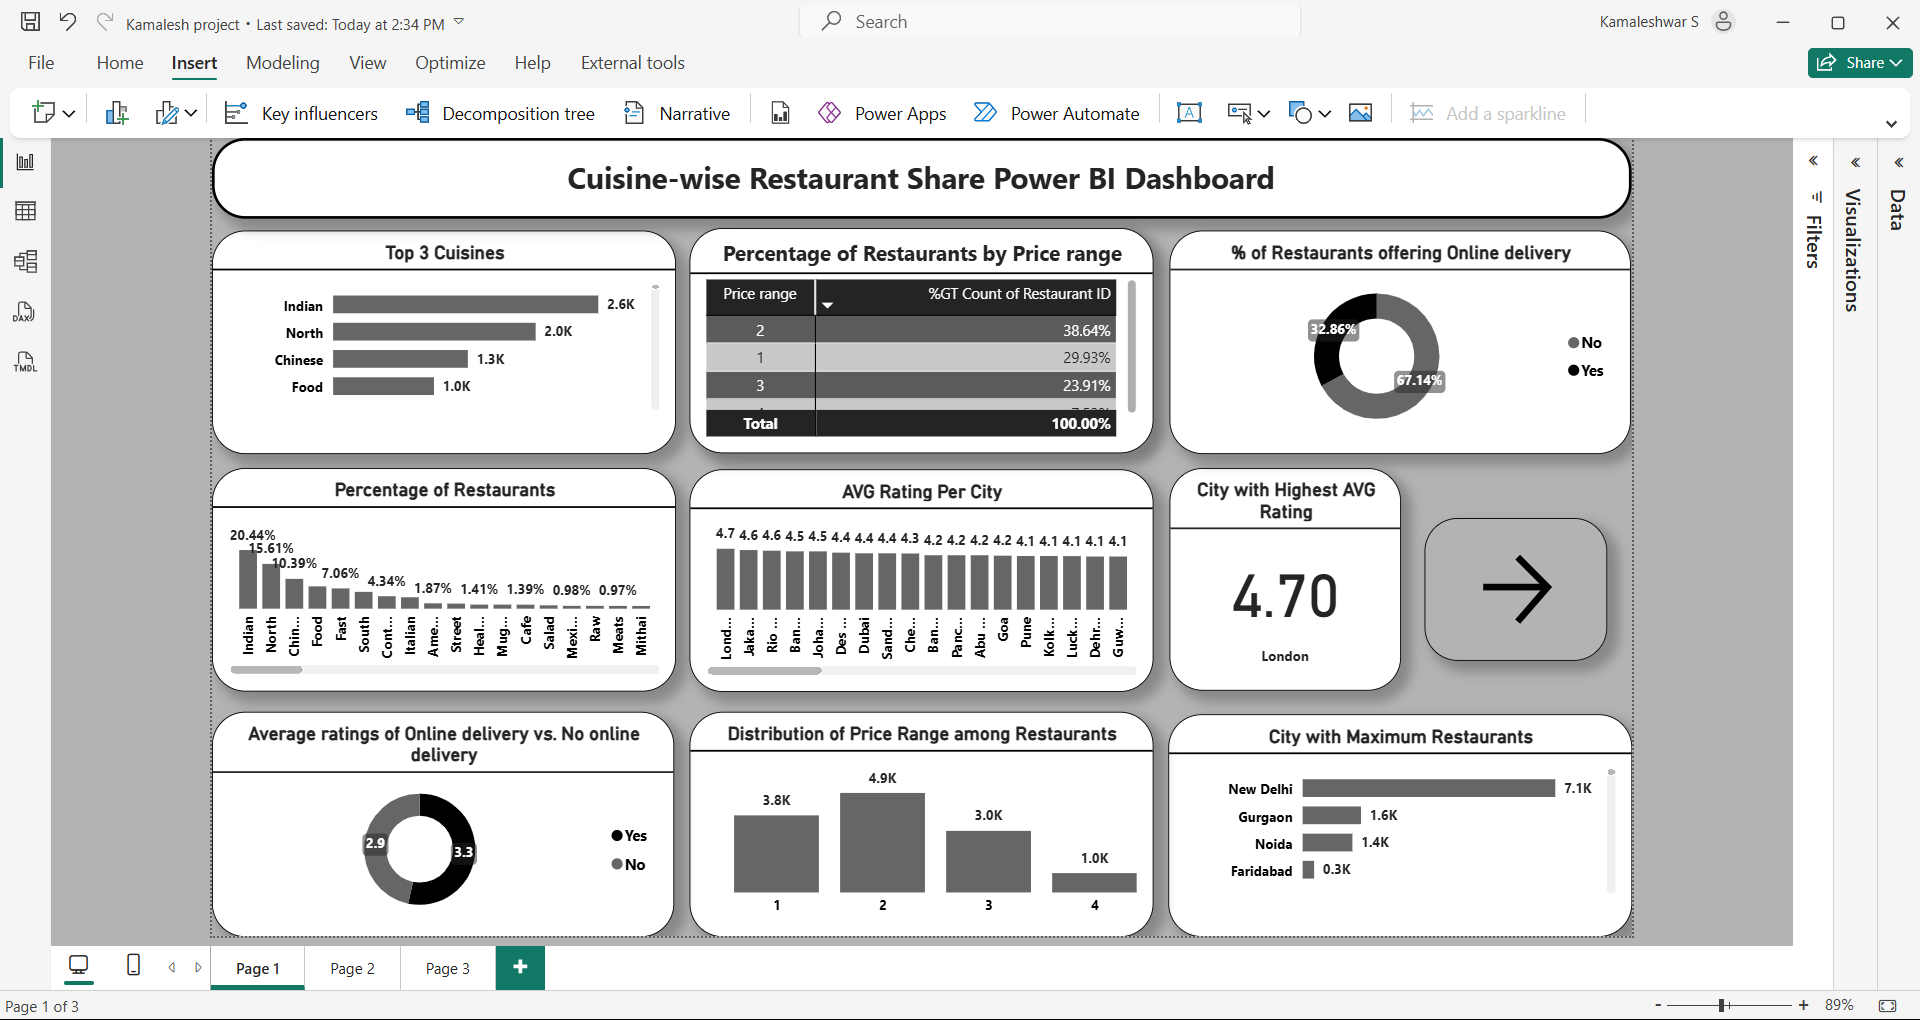

What the dashboard file says about the page in this screenshot:
{"tool":"powerbi","page":{"name":"Page 1","canvas":[1280,720],"ordinal":0},"visuals":[{"type":"barChart","title":"Top 3 Cuisines","fields":{"Category":["Dataset.Cuisines"],"Y":["CountNonNull(Dataset.Restaurant ID)"]},"box":[0,83.8,418.8,201.2],"z":0},{"type":"columnChart","title":"Percentage of Restaurants","fields":{"Category":["Dataset.Cuisines"],"Y":["CountNonNull(Dataset.Restaurant ID)"]},"box":[0,297.5,418.8,201.2],"z":1000},{"type":"textbox","box":[0,0,1280,72.5],"z":2000},{"type":"clusteredBarChart","title":"City with Maximum Restaurants","fields":{"Category":["Dataset.City"],"Y":["CountNonNull(Dataset.Restaurant ID)"]},"box":[862.2,519.4,418.3,201],"z":3000},{"type":"columnChart","title":"AVG Rating Per City","fields":{"Category":["Dataset.City"],"Y":["Avg(Dataset.Aggregate rating)"]},"box":[431.1,298.6,418.3,201],"z":4000},{"type":"kpi","title":"City with Highest AVG Rating","fields":{"TrendLine":["Dataset.City"],"Indicator":["Avg(Dataset.Aggregate rating)"]},"box":[863.3,297.5,209.2,201],"z":5000},{"type":"clusteredColumnChart","title":"Distribution of Price Range among Restaurants","fields":{"Category":["Dataset.Price range"],"Y":["CountNonNull(Dataset.Restaurant ID)"]},"box":[431.1,517.1,418.3,203.3],"z":6000},{"type":"pivotTable","title":"Percentage of Restaurants by Price range","fields":{"Rows":["Dataset.Price range"],"Values":["Divide(CountNonNull(Dataset.Restaurant ID), ScopedEval(CountNonNull(Dataset.Restaurant ID), []))"]},"box":[431.1,81.3,418.3,203.3],"z":7000},{"type":"donutChart","title":"% of Restaurants offering Online delivery","fields":{"Category":["Dataset.Value"],"Y":["CountNonNull(Dataset.Restaurant ID)"]},"box":[863.8,83.8,416.2,201.2],"z":8000},{"type":"donutChart","title":"Average ratings of Online delivery vs. No online delivery","fields":{"Category":["Dataset.Value"],"Y":["Avg(Dataset.Aggregate rating)"]},"box":[0,517.1,417.1,203.3],"z":9000},{"type":"actionButton","box":[1093.8,342.5,165,128.8],"z":10000}]}

Visuals, with their boxes on the page's 1280x720 design canvas (x1, y1, x2, y2). These are canvas units, not pixel positions in the 1920x1020 screenshot, which may show the page scaled, cropped or inside an application window:
"Top 3 Cuisines" barChart: locate(0, 84, 419, 285)
"Percentage of Restaurants" columnChart: locate(0, 298, 419, 499)
textbox: locate(0, 0, 1280, 72)
"City with Maximum Restaurants" clusteredBarChart: locate(862, 519, 1280, 720)
"AVG Rating Per City" columnChart: locate(431, 299, 849, 500)
"City with Highest AVG Rating" kpi: locate(863, 298, 1072, 498)
"Distribution of Price Range among Restaurants" clusteredColumnChart: locate(431, 517, 849, 720)
"Percentage of Restaurants by Price range" pivotTable: locate(431, 81, 849, 285)
"% of Restaurants offering Online delivery" donutChart: locate(864, 84, 1280, 285)
"Average ratings of Online delivery vs. No online delivery" donutChart: locate(0, 517, 417, 720)
actionButton: locate(1094, 342, 1259, 471)
